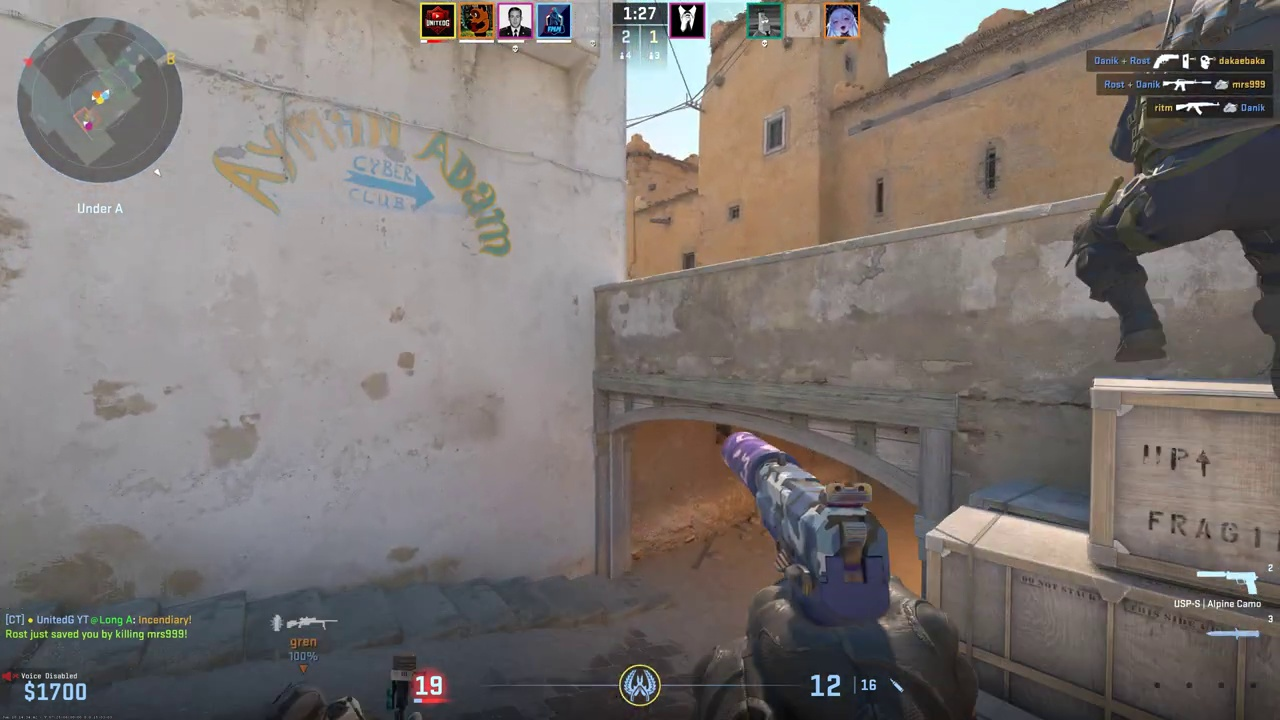CT: (1110, 3, 1280, 369), (249, 684, 389, 719)
